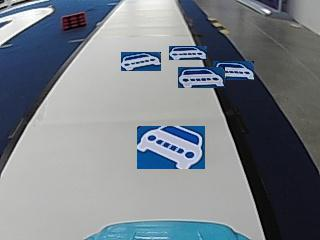bomb: (62, 10, 86, 29)
